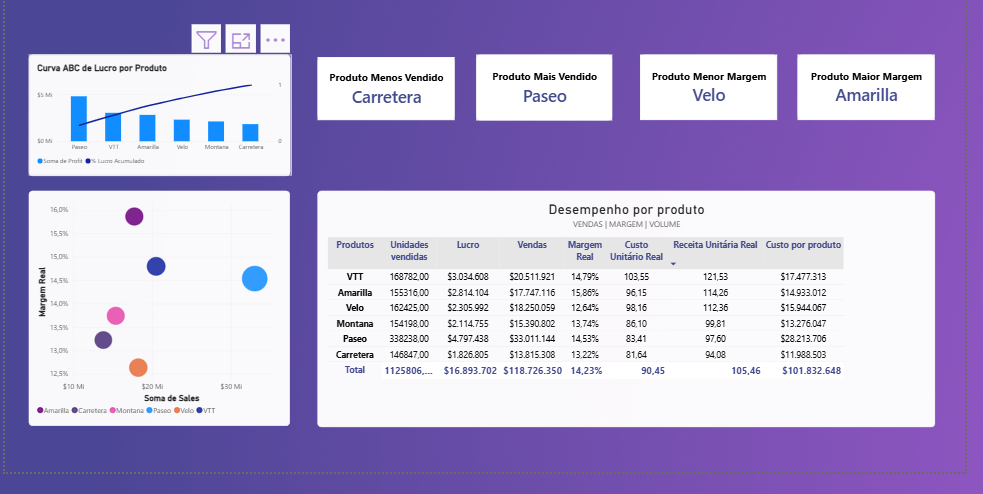

This screenshot's page, from the dashboard's own definition file:
{"tool":"powerbi","page":{"name":"Analise de produto","canvas":[1920,1080],"ordinal":1},"visuals":[{"type":"pivotTable","title":"Desempenho por produto","fields":{"Rows":["financials.Product"],"Values":["Sum(financials.Units Sold)","Sum(financials.Profit)","Sum(financials.Sales)","financials.Margem Real","financials.Custo Unitário Real","financials.Receita Unitária Real","Sum(financials.COGS)"]},"box":[624,517.5,1235,472.5],"z":0},{"type":"scatterChart","fields":{"Series":["financials.Product"],"Size":["Sum(financials.Units Sold)"],"X":["Sum(financials.Sales)"],"Y":["financials.Margem Real"]},"box":[48,518,522.5,470],"z":1000},{"type":"cardVisual","fields":{"Data":["financials.Produto Mais Vendido"]},"box":[942,246,272,132],"z":2000},{"type":"cardVisual","fields":{"Data":["financials.Produto Menos Vendido"]},"box":[624,250,274,126],"z":3000},{"type":"cardVisual","fields":{"Data":["financials.Produto Menor Margem"]},"box":[1269.7,245.7,274.3,131.4],"z":4000},{"type":"cardVisual","fields":{"Data":["financials.Produto Maior Margem"]},"box":[1585.4,245.7,274.3,131.4],"z":5000},{"type":"lineClusteredColumnComboChart","title":"Curva ABC de Lucro por Produto","fields":{"Category":["financials.Product"],"Y":["Sum(financials.Profit)"],"Y2":["financials.% Lucro Acumulado"]},"box":[48,244.7,523.3,243.3],"z":6000}]}

Visuals, with their boxes on the page's 1920x1080 design canvas (x1, y1, x2, y2). These are canvas units, not pixel positions in the 983x494 screenshot, which may show the page scaled, cropped or inside an application window:
"Desempenho por produto" pivotTable: left=624, top=518, right=1859, bottom=990
scatterChart - financials.Product x Sum(financials.Units Sold): left=48, top=518, right=570, bottom=988
cardVisual - financials.Produto Mais Vendido: left=942, top=246, right=1214, bottom=378
cardVisual - financials.Produto Menos Vendido: left=624, top=250, right=898, bottom=376
cardVisual - financials.Produto Menor Margem: left=1270, top=246, right=1544, bottom=377
cardVisual - financials.Produto Maior Margem: left=1585, top=246, right=1860, bottom=377
"Curva ABC de Lucro por Produto" lineClusteredColumnComboChart: left=48, top=245, right=571, bottom=488
